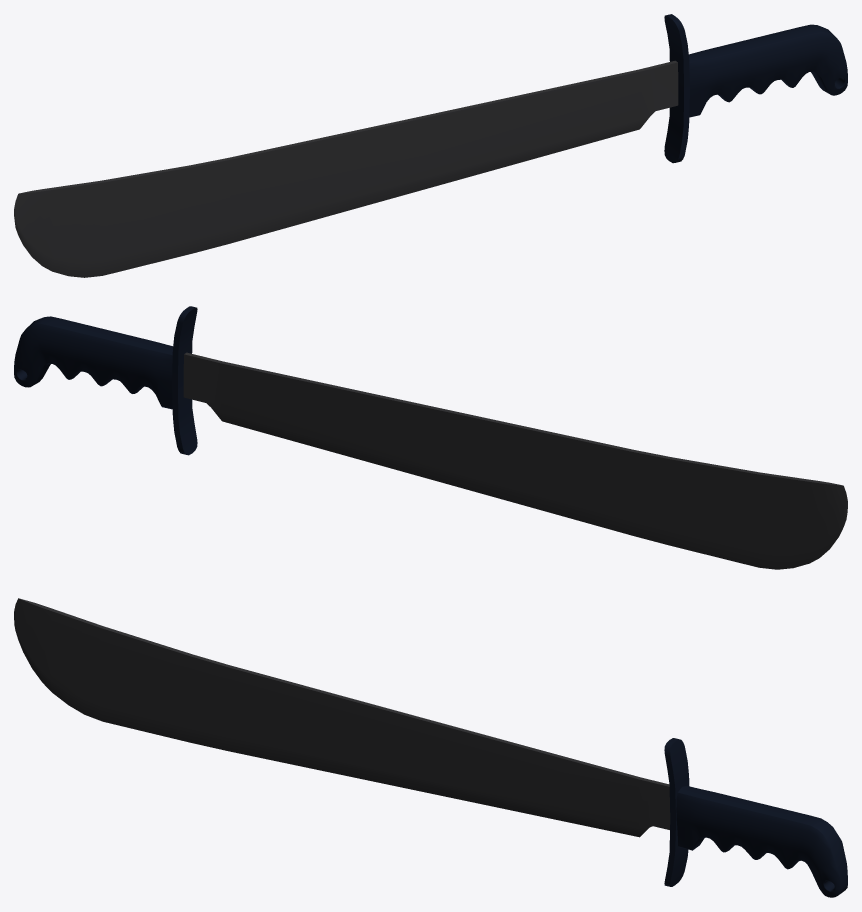
The model's file is Machete.fbx.
3 views of the same model, one above another, from view 1: azimuth 30°, elevation 25°; view 2: azimuth 150°, elevation 25°; view 3: azimuth 330°, elevation 25° (orthographic).
Visible parts, largest first — view 1: Machete; view 2: Machete; view 3: Machete.
Boxes of the visible parts, <box> form: Machete: <box>14,14,847,277</box>; Machete: <box>14,306,847,569</box>; Machete: <box>14,598,847,897</box>.
Size of the model in its own units: 110 by 18.13 by 3.54.
